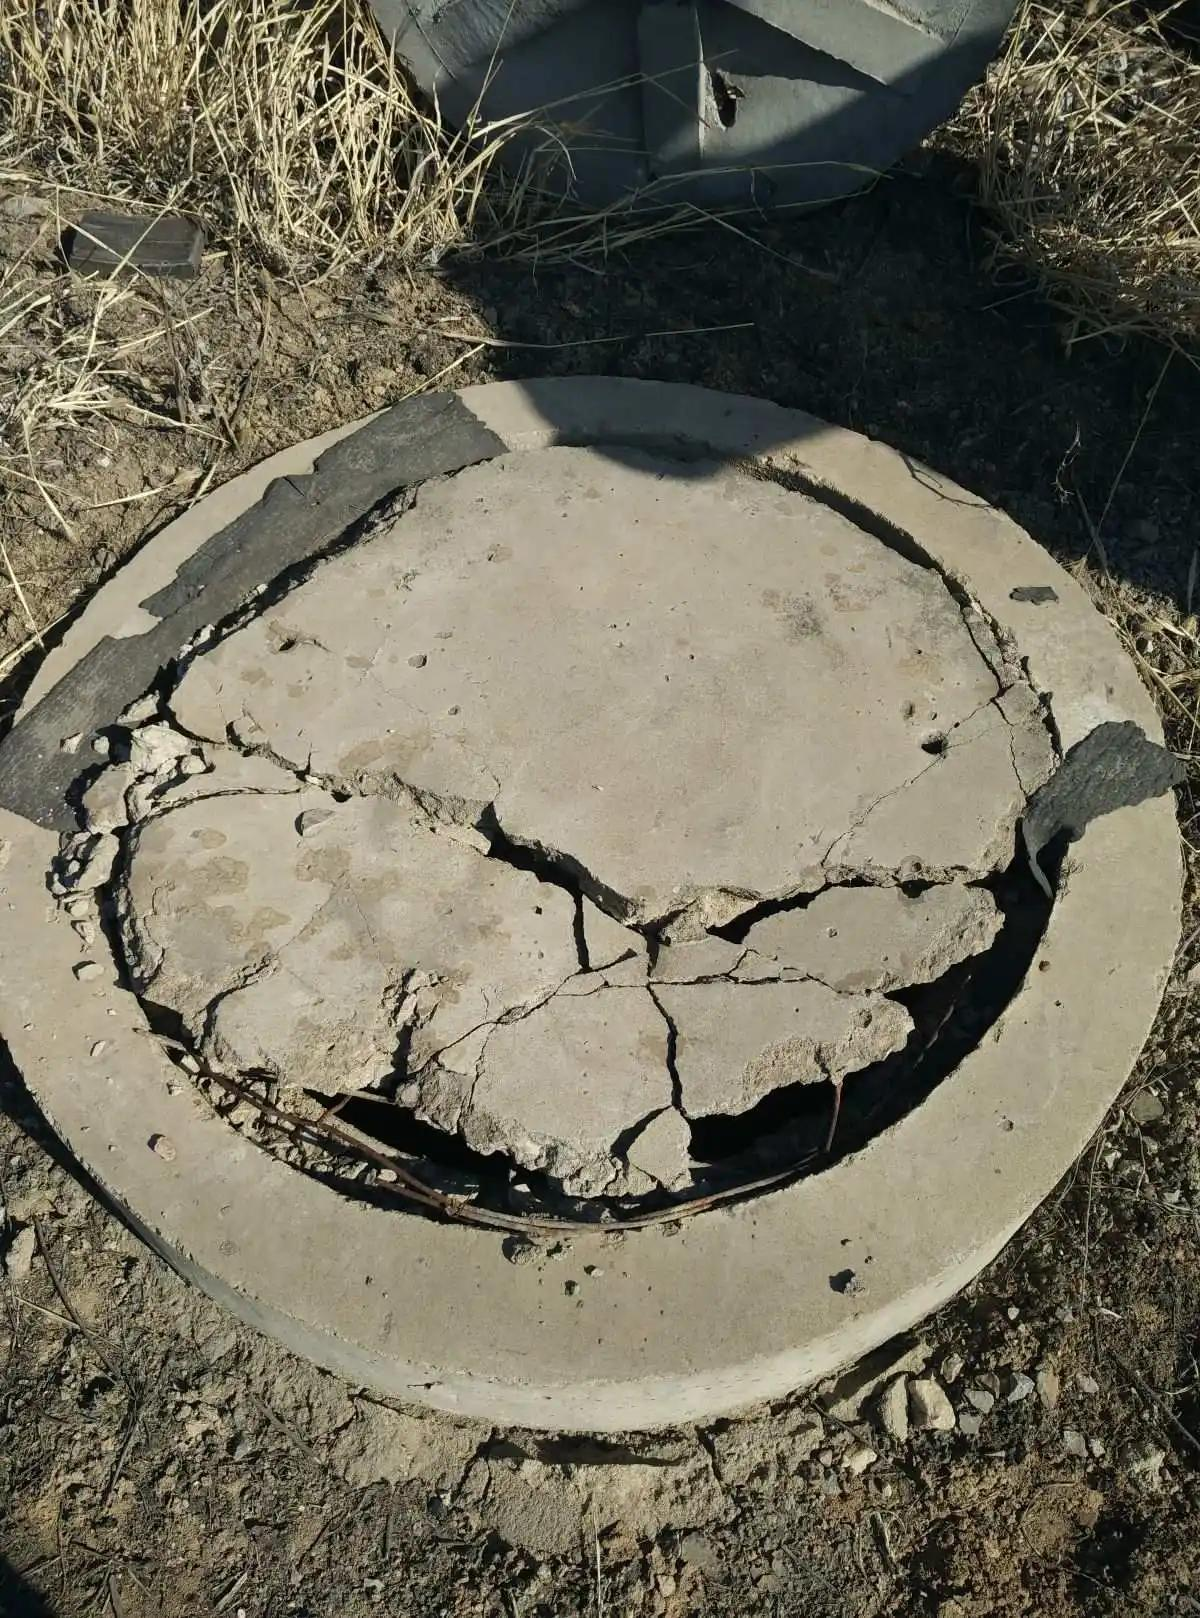wellcover: (11, 362, 1163, 1389)
